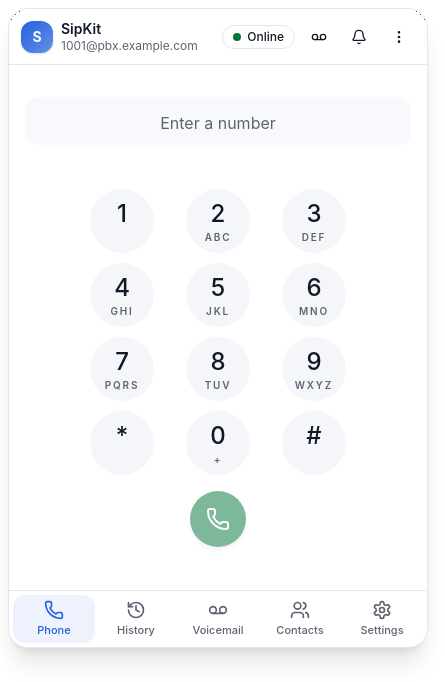
Test: VoicemailPanel › shows an empty state
What coordinates should you click on to do the following:
click the tab "Voicemail"
I would click on:
 (218, 619)
Its box is [177,595,259,643].
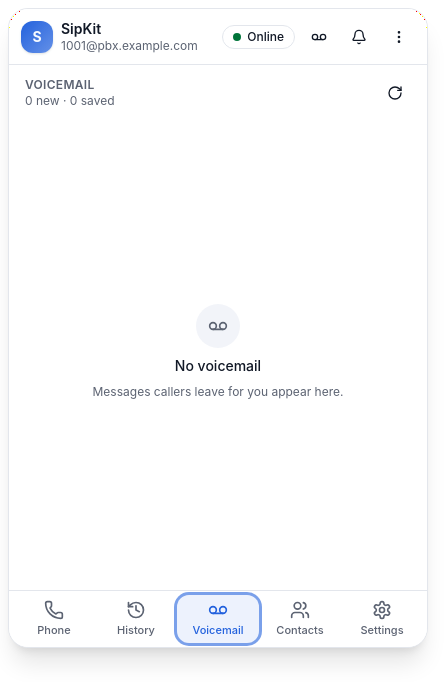
Now the text "No voicemail" is shown, box [175,356,261,376]
